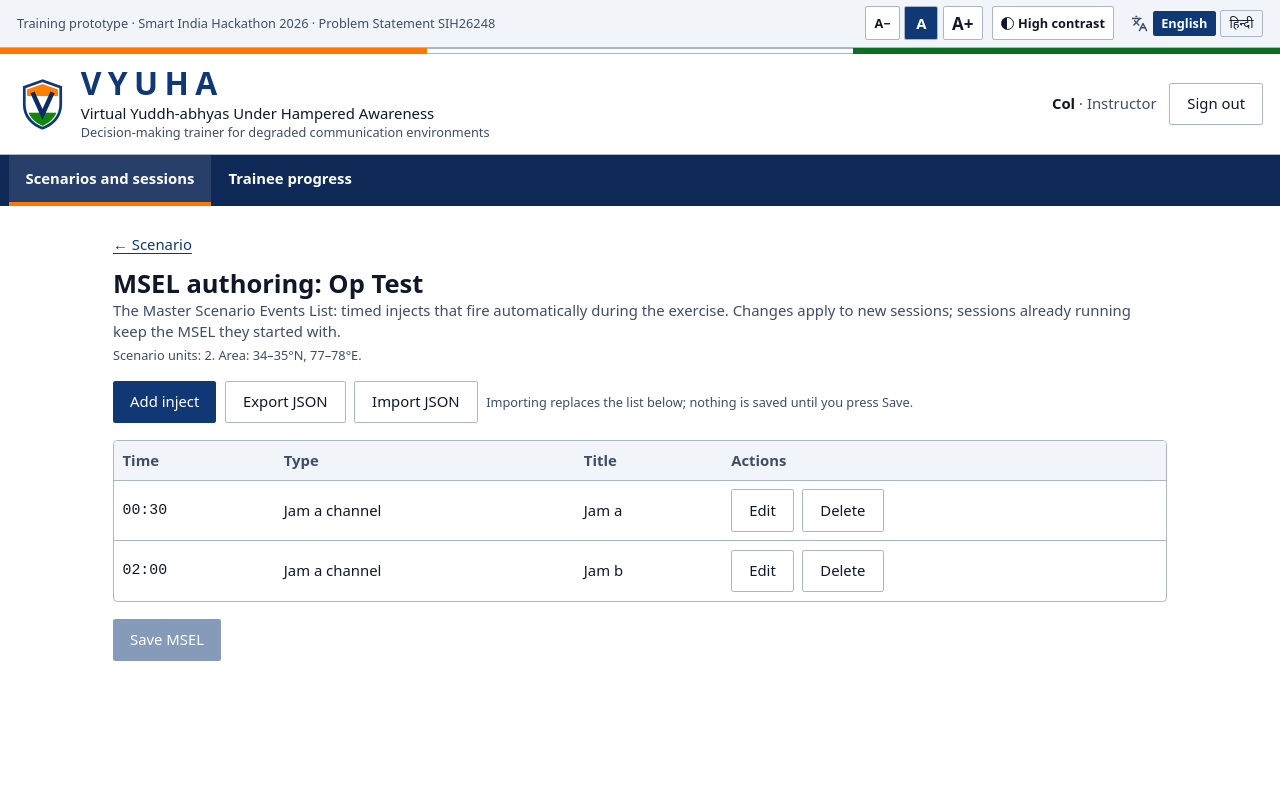
MselAuthoringPage › edits and deletes injects, and can discard changes
expect the text "Jam a" is shown: met, box [575,480,723,541]
Click the button with aria-label "Edit: Jam a": (762, 510) [731,489,794,532]
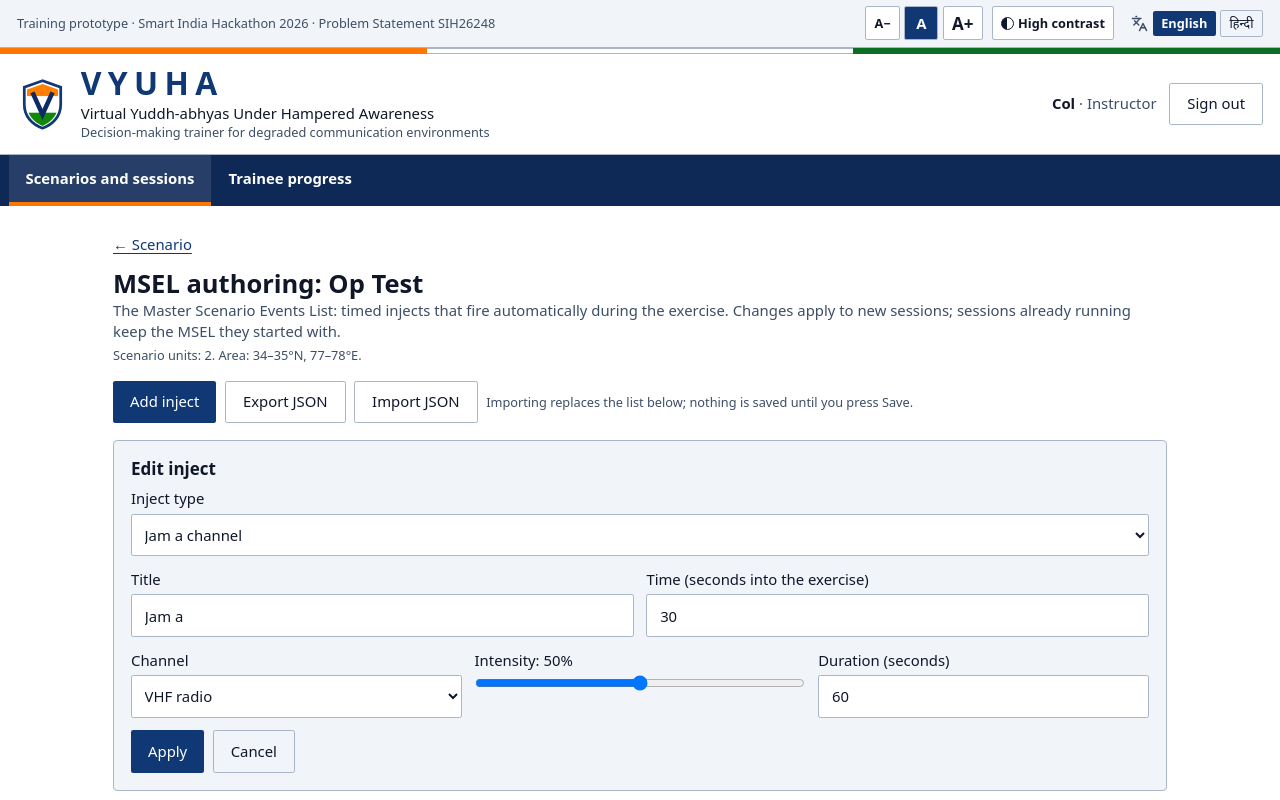
Replace the text in the field labelled "Title" with "Renamed jam": (382, 616) [131,594,634,637]
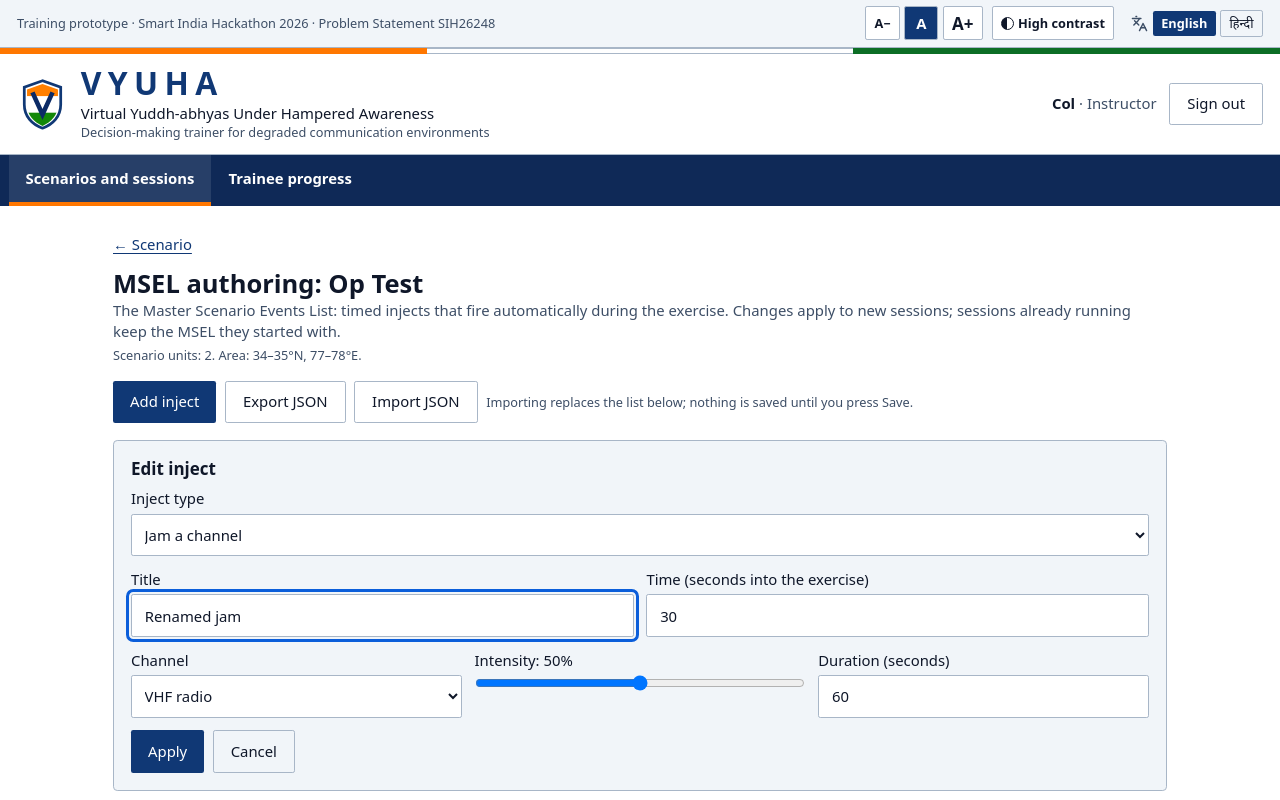
Click the button "Apply": (168, 752) [131,730,204,773]
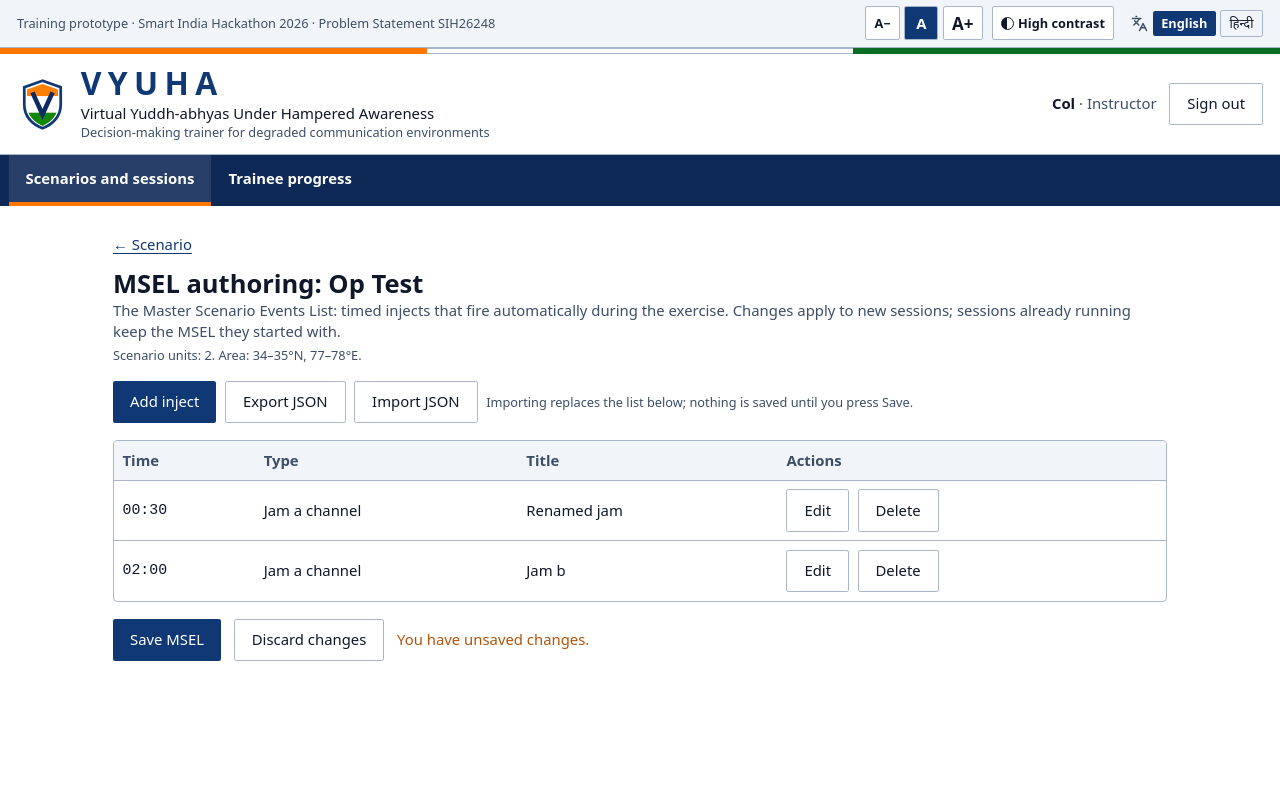
expect the text "Renamed jam" is shown: met, box [518,480,778,541]
Click the button with aria-label "Delete: Jam b": (898, 571) [858,550,939,592]
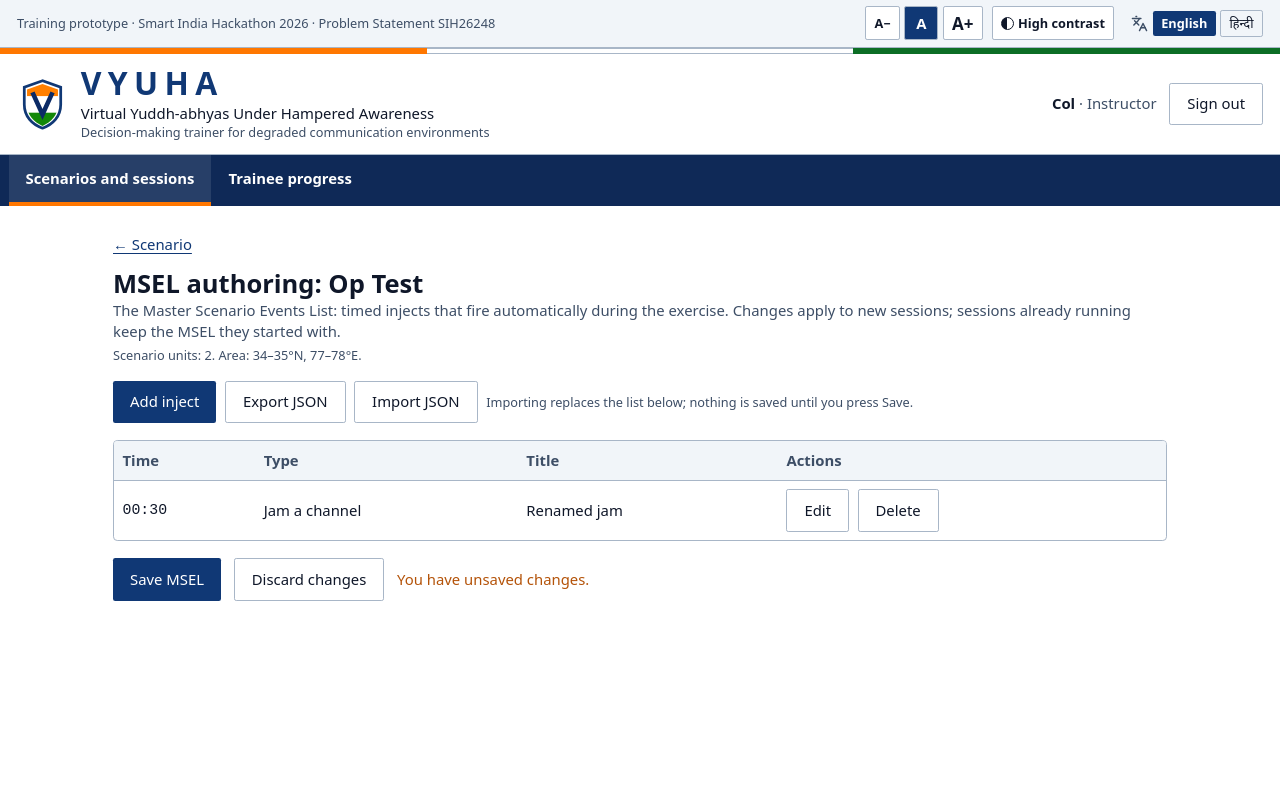
expect the text "Jam b" is gone: met
Click the button "Discard changes": (309, 579) [234,558,384,601]
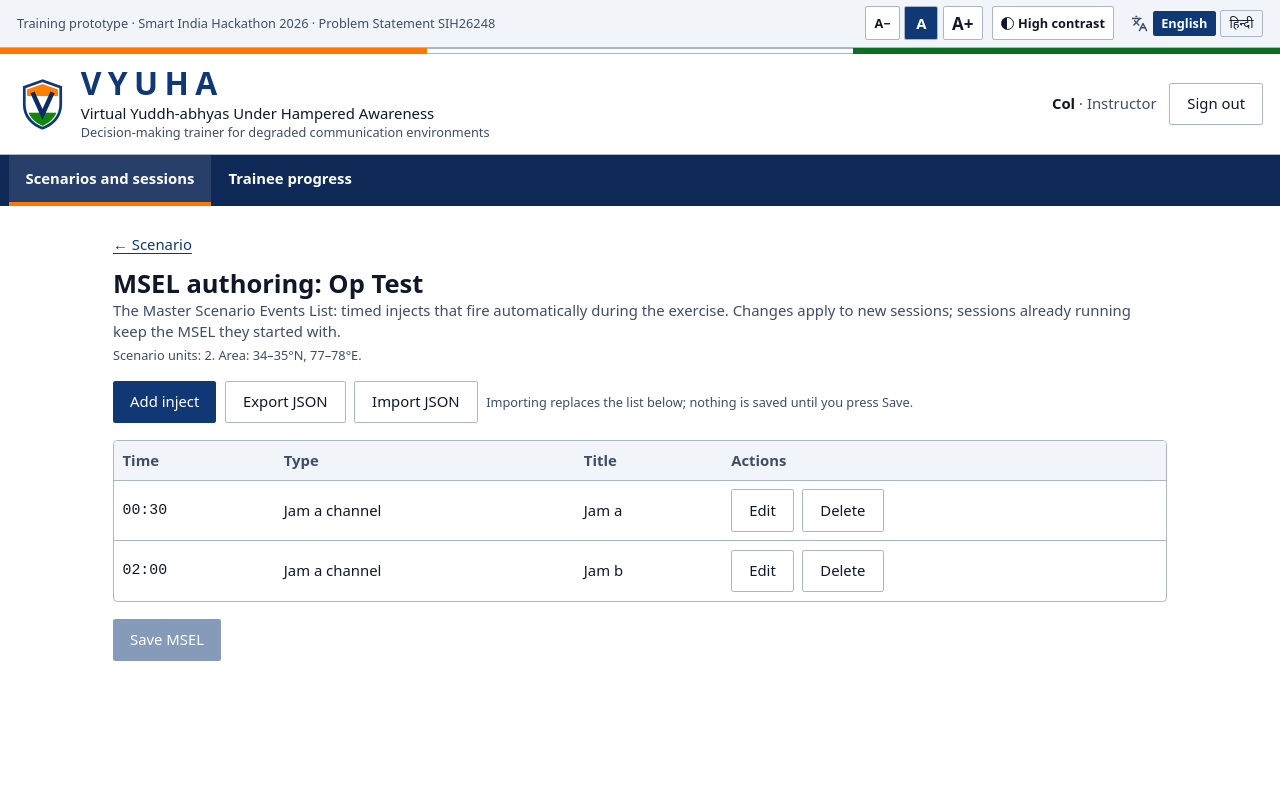
expect the text "Jam a" is shown: met, box [575,480,723,541]
expect the text "Jam b" is shown: met, box [575,541,723,601]
expect the text "Renamed jam" is gone: met
